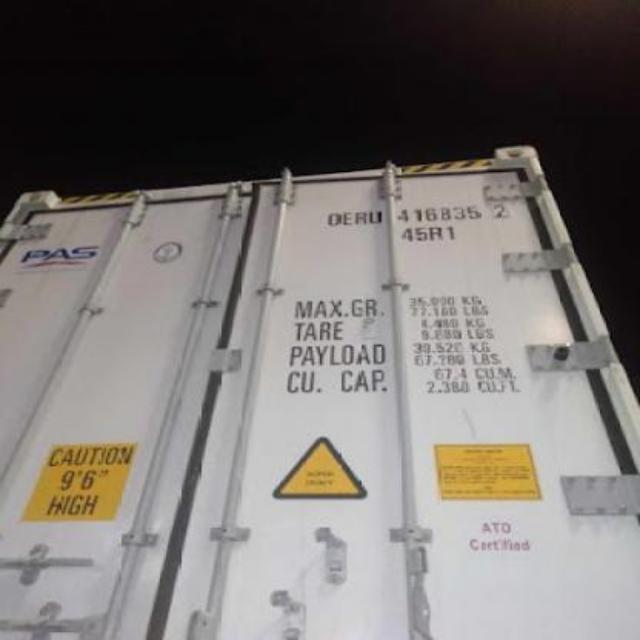1: (414, 208, 424, 222)
2: (490, 202, 510, 220)
3: (452, 206, 466, 220)
4: (397, 208, 411, 224)
5: (466, 206, 482, 220)
6: (426, 207, 438, 223)
8: (440, 206, 452, 220)
E: (342, 210, 354, 226)
O: (326, 212, 342, 228)
R: (354, 212, 368, 224)
U: (369, 211, 383, 225)
